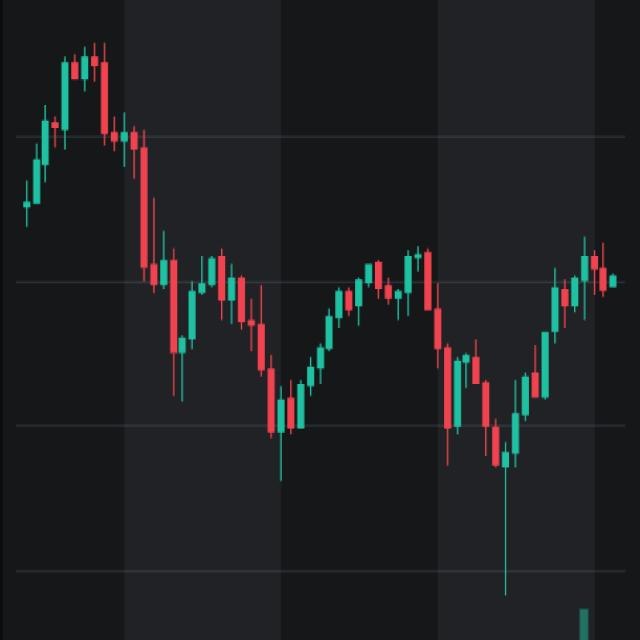Resistance-Emerging: (196, 241, 640, 471)
Support-breakout: (13, 32, 261, 419)
